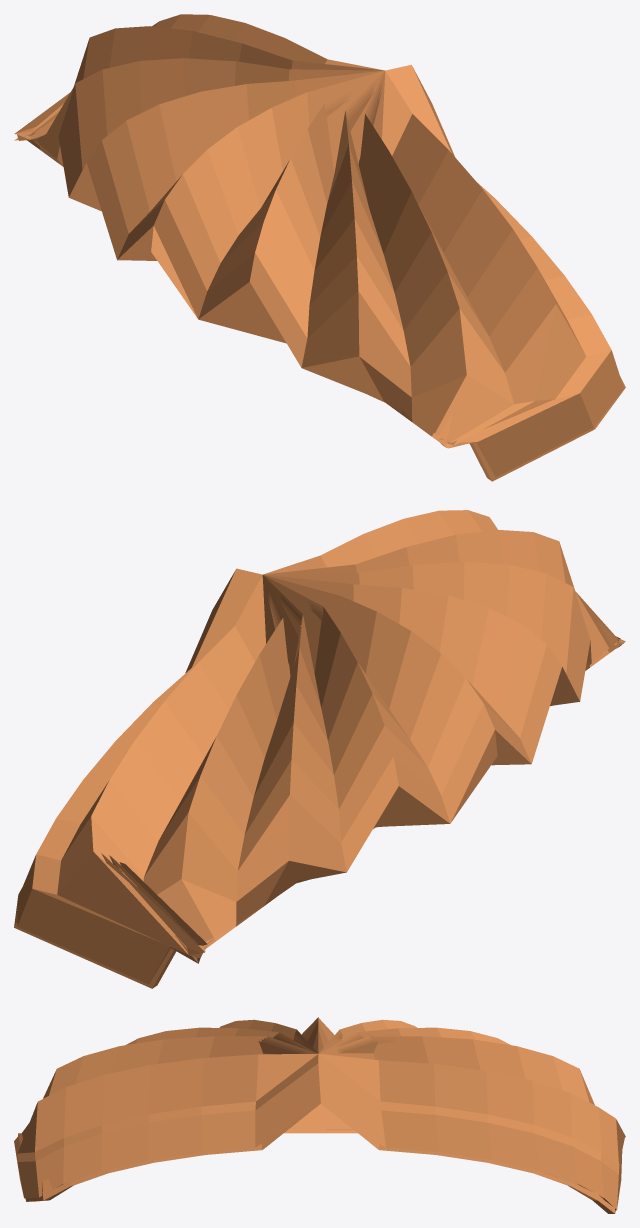
File: SeaShell.fbx
3 renders of one model, top to bottom at view 1: azimuth 30°, elevation 25°; view 2: azimuth 150°, elevation 25°; view 3: azimuth 270°, elevation 25°, orthographic. The views are drawn at different scales.
Parts seen in each view (by area): view 1: Sphere; view 2: Sphere; view 3: Sphere.
Boxes of the visible parts, x1,y1,x2,y2 form: Sphere: (14,14,625,481); Sphere: (14,510,625,988); Sphere: (14,1017,625,1213).
Bounding box in the file's own units: 150 × 117 × 398.
